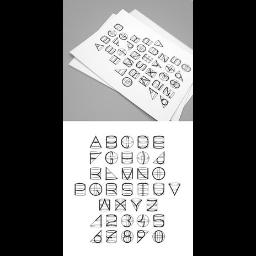a: (88, 135, 102, 149)
b: (106, 134, 118, 150)
e: (153, 134, 165, 150)
f: (88, 151, 102, 165)
g: (105, 150, 115, 166)
h: (120, 152, 134, 164)
j: (155, 150, 169, 166)
k: (90, 167, 102, 181)
l: (104, 167, 118, 181)
m: (120, 168, 134, 180)
n: (136, 167, 150, 179)
o: (152, 166, 166, 182)
p: (74, 182, 86, 198)
r: (106, 182, 118, 196)
s: (120, 182, 134, 196)
u: (153, 182, 167, 196)
v: (167, 184, 181, 196)
x: (115, 200, 127, 212)
z: (146, 200, 160, 212)
